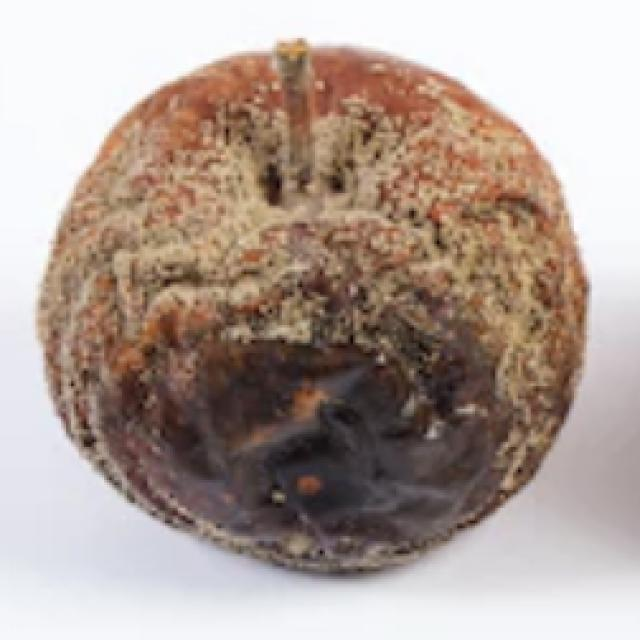rotten_apple: (41, 31, 593, 582)
